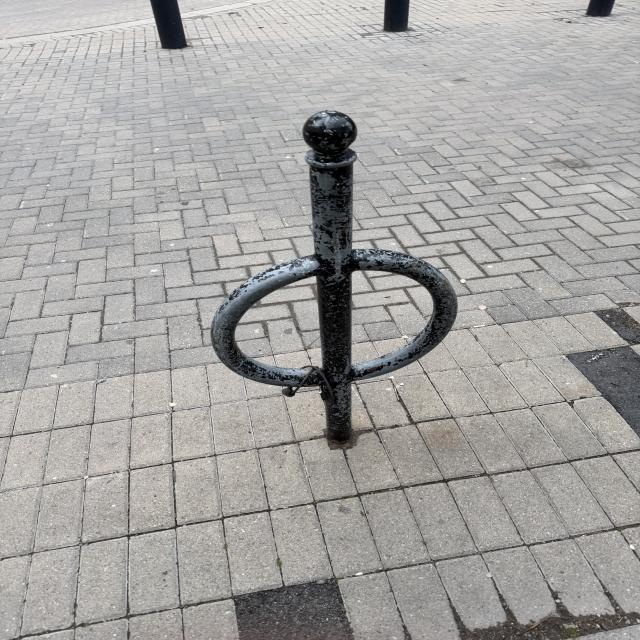Bicycle Rack: (210, 112, 461, 444)
